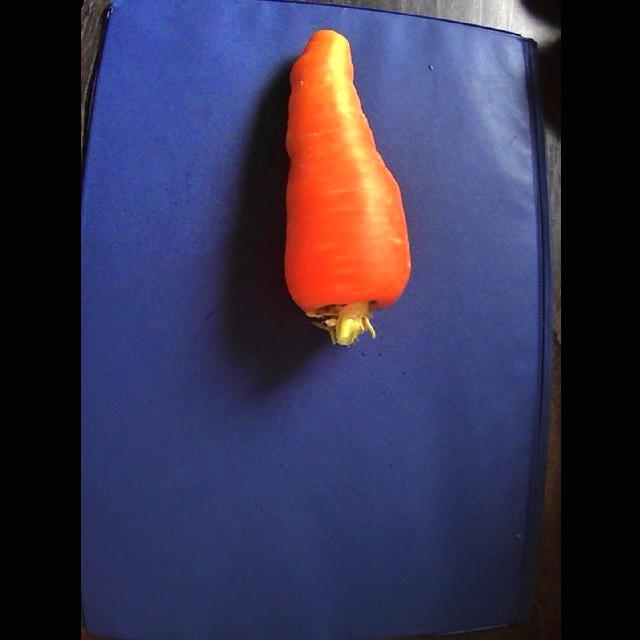zanahoria: (285, 30, 410, 345)
